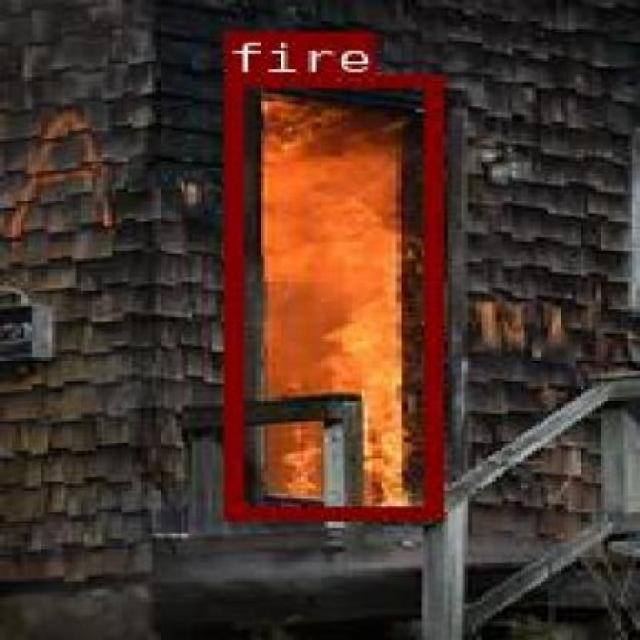Fire: (222, 72, 440, 517)
